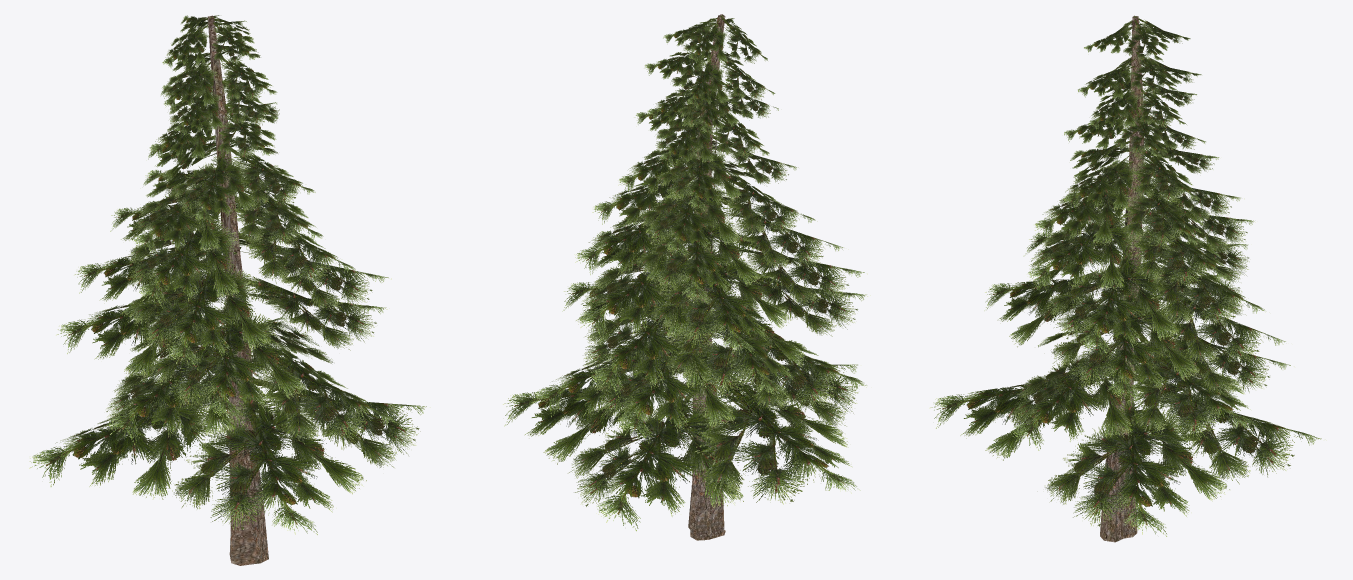
Rendered from scrubPine.obj.
3 renders of one model, left to right at view 1: azimuth 30°, elevation 25°; view 2: azimuth 150°, elevation 25°; view 3: azimuth 270°, elevation 25°, orthographic. The views are drawn at different scales.
Visible parts, largest first — view 1: scrubPine; view 2: scrubPine; view 3: scrubPine.
Boxes of the visible parts, bbox=[...] form: scrubPine: bbox=[29, 15, 430, 565]; scrubPine: bbox=[503, 14, 870, 540]; scrubPine: bbox=[929, 15, 1326, 542].
Size of the model in its own units: 8.73 by 11.36 by 8.56.
Materials: 2 (2 with a texture image).
